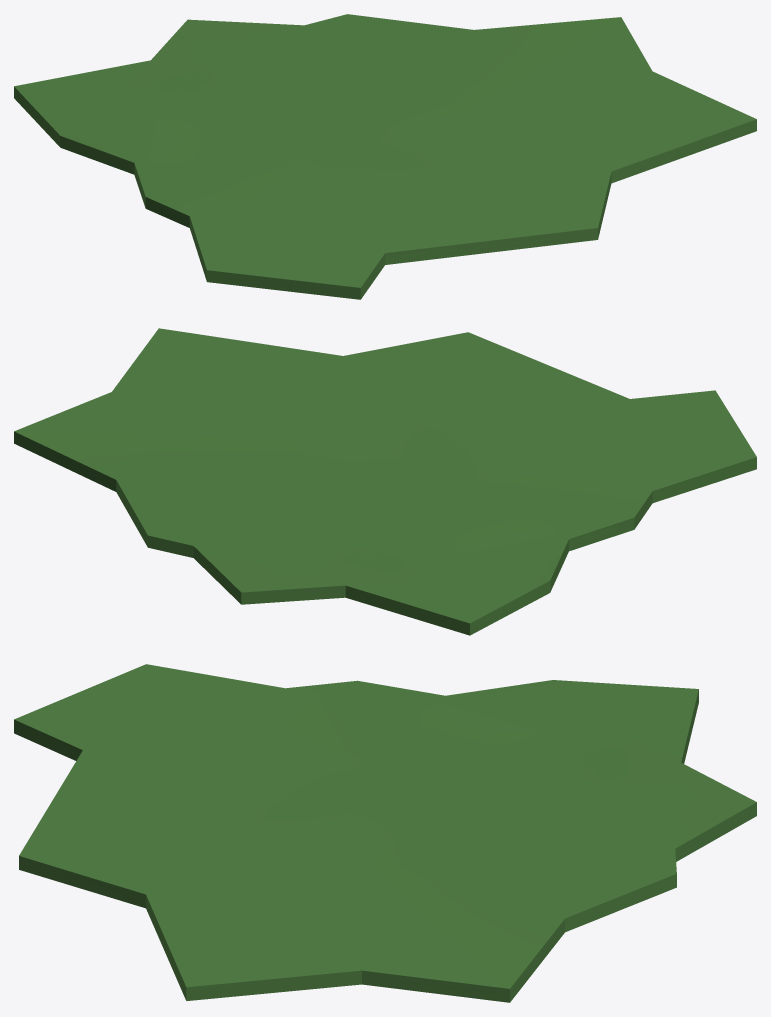
File: paper grass 1.fbx
3 views of the same model, one above another, from view 1: azimuth 30°, elevation 25°; view 2: azimuth 150°, elevation 25°; view 3: azimuth 270°, elevation 25° (orthographic). The views are drawn at different scales.
Parts seen in each view (by area): view 1: Cube; view 2: Cube; view 3: Cube.
Part boxes in pixels (x1,y1,x2,y2): Cube: (14, 14, 756, 299); Cube: (14, 328, 756, 635); Cube: (14, 664, 756, 1002).
Bounding box in the file's own units: 350 × 6.99 × 338.
